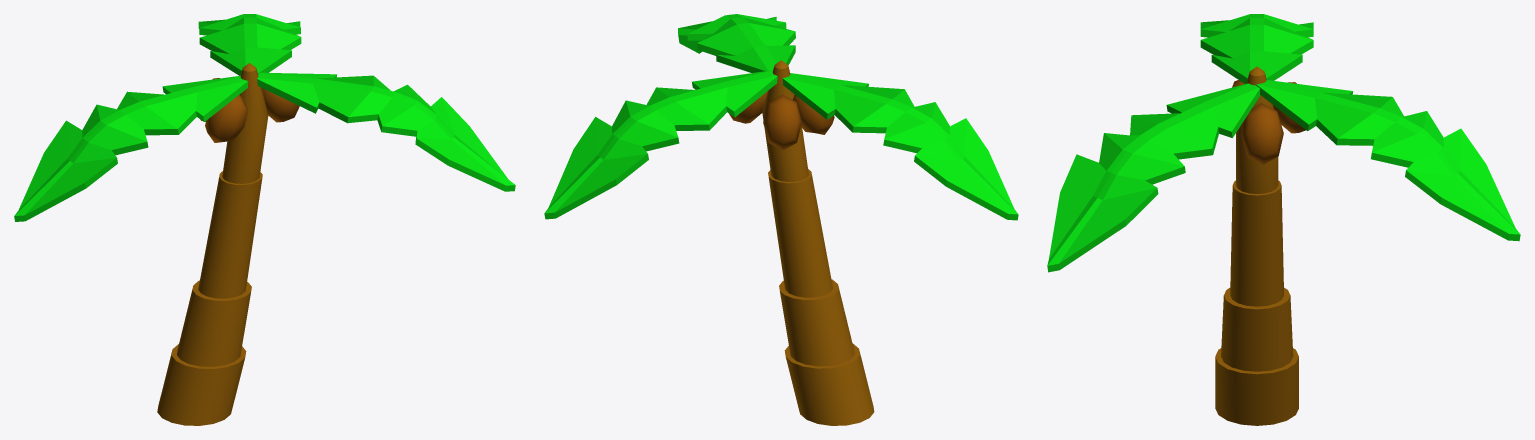
File: Tree 1 .fbx
3 views of the same model, side by side, from view 1: azimuth 30°, elevation 25°; view 2: azimuth 150°, elevation 25°; view 3: azimuth 270°, elevation 25° (orthographic). The views are drawn at different scales.
Visible parts, largest first — view 1: tree; view 2: tree; view 3: tree.
Boxes of the visible parts, x1,y1,x2,y2 form: tree: (14, 14, 515, 425); tree: (544, 14, 1018, 425); tree: (1047, 14, 1520, 425).
Size of the model in its own units: 465 by 364 by 420.
